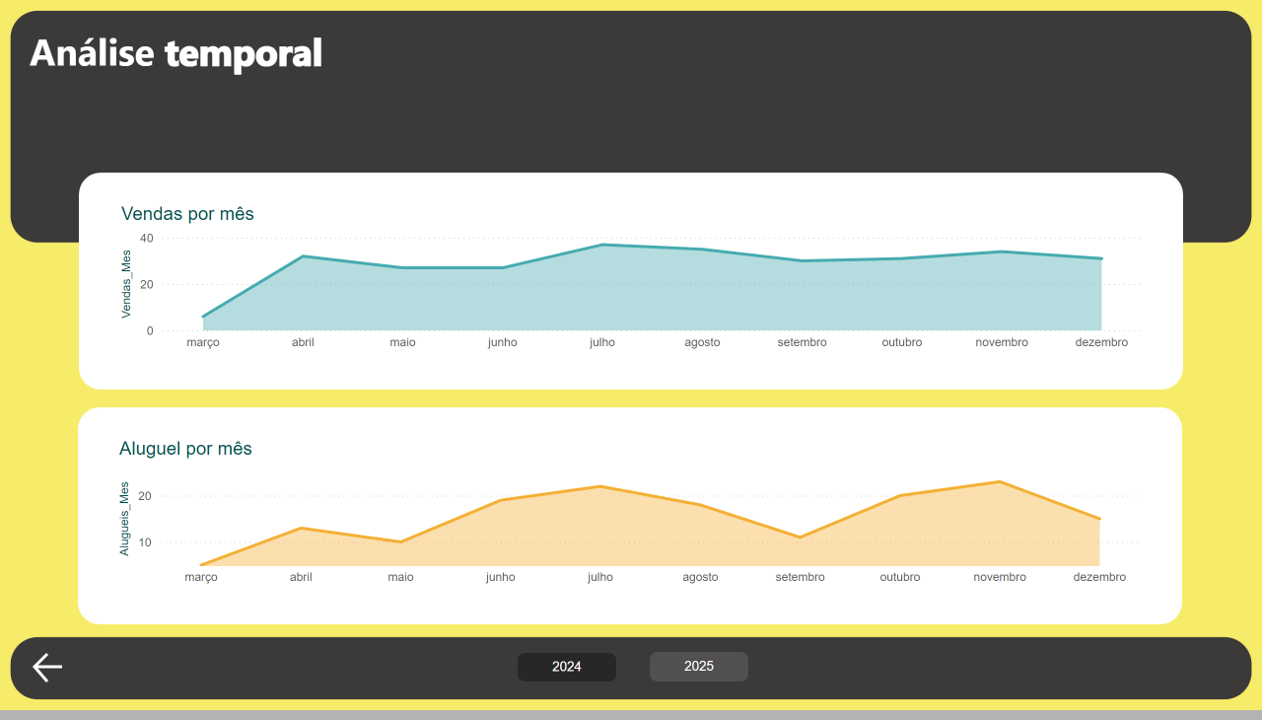

This screenshot's page, from the dashboard's own definition file:
{"tool":"powerbi","page":{"name":"Página 3","canvas":[1280,720],"ordinal":2},"visuals":[{"type":"textbox","box":[25,21,569,63],"z":0},{"type":"shape","box":[80,175,1120,220],"z":1000},{"type":"areaChart","title":"Vendas por mês","fields":{"Y":["imobiliaria_metricas.Vendas_Mes"],"Category":["imobiliaria_metricas.Data_Venda.Variation.Hierarquia de datas.Mês"]},"box":[117.5,206,1045,157],"z":2000},{"type":"shape","box":[78.5,413,1120,220],"z":3000},{"type":"areaChart","title":"Aluguel por mês","fields":{"Y":["imobiliaria_metricas.Alugueis_Mes"],"Category":["imobiliaria_metricas.Data_Aluguel.Variation.Hierarquia de datas.Mês"]},"box":[116,444,1045,157],"z":4000},{"type":"actionButton","title":"2025","box":[655,662,100,29],"z":5000},{"type":"actionButton","title":"2024","box":[525,662,100,29],"z":6000},{"type":"actionButton","box":[29,657,42,40],"z":7000},{"type":"actionButton","title":"2024 Clicado","box":[525,662,100,29],"z":10000}]}

Visuals, with their boxes in screenshot pixels (x1, y1, x2, y2), scaled from the page's 1280x720 canvas onto the 1262x720 screenshot:
textbox: 25,21,586,84
shape: 79,175,1183,395
"Vendas por mês" areaChart: 116,206,1146,363
shape: 77,413,1182,633
"Aluguel por mês" areaChart: 114,444,1145,601
"2025" actionButton: 646,662,744,691
"2024" actionButton: 518,662,616,691
actionButton: 29,657,70,697
"2024 Clicado" actionButton: 518,662,616,691
